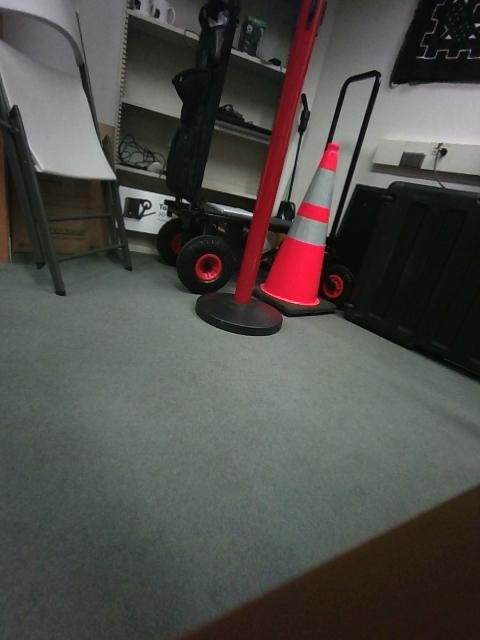block: (53, 287, 89, 362)
